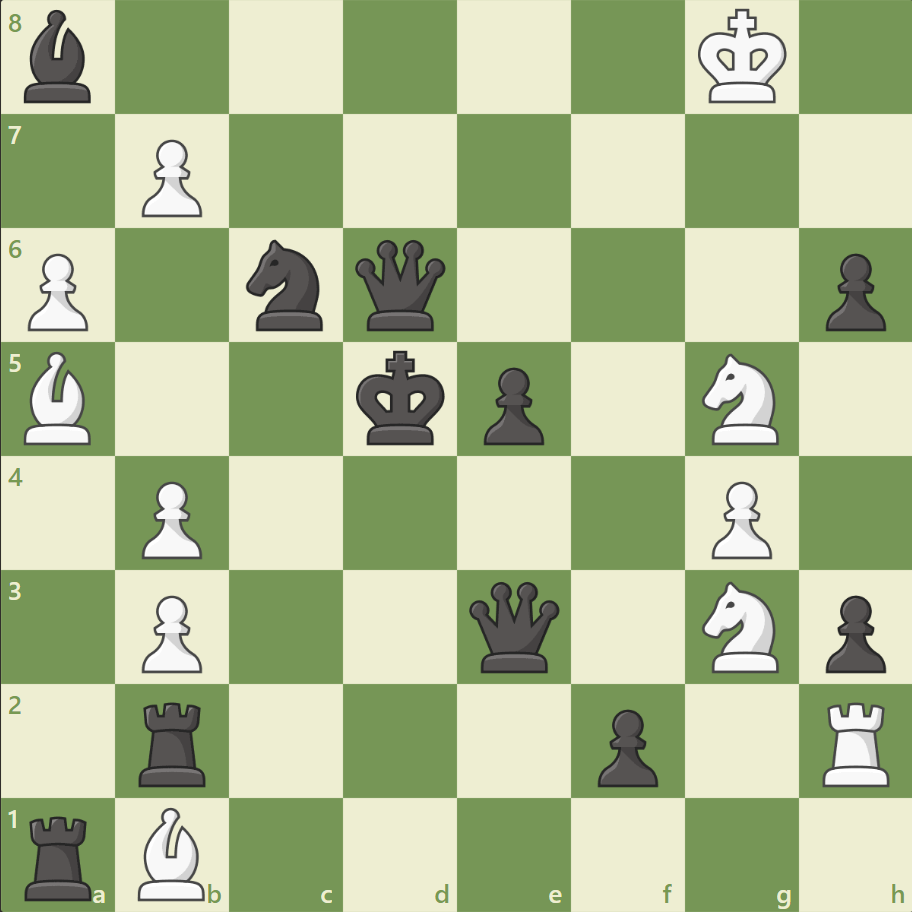B: (131, 801, 215, 904), (17, 347, 101, 449)
K: (692, 4, 792, 112)
N: (692, 348, 789, 450), (692, 575, 789, 677)
P: (133, 132, 208, 223), (20, 246, 95, 337), (133, 473, 208, 564), (701, 473, 776, 564), (133, 586, 208, 677)
R: (814, 693, 897, 790)
b: (17, 6, 101, 109)
k: (351, 344, 451, 452)
n: (238, 234, 335, 337)
p: (474, 359, 549, 450), (815, 246, 889, 337), (815, 586, 889, 677), (588, 700, 662, 791)
q: (464, 576, 563, 676), (351, 236, 450, 335)
r: (19, 806, 102, 904), (133, 693, 215, 790)
